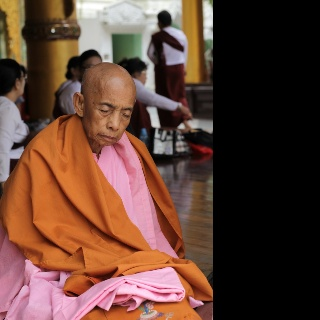without_mask: (82, 76, 136, 146)
